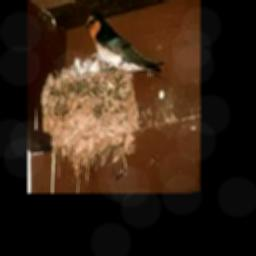Swallow: (85, 12, 163, 73)
